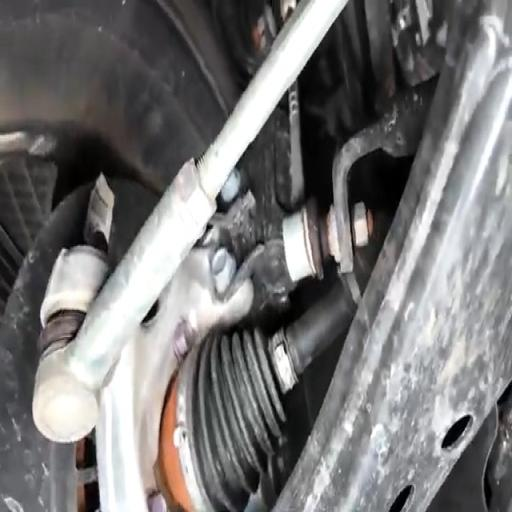tire: (0, 0, 237, 187)
